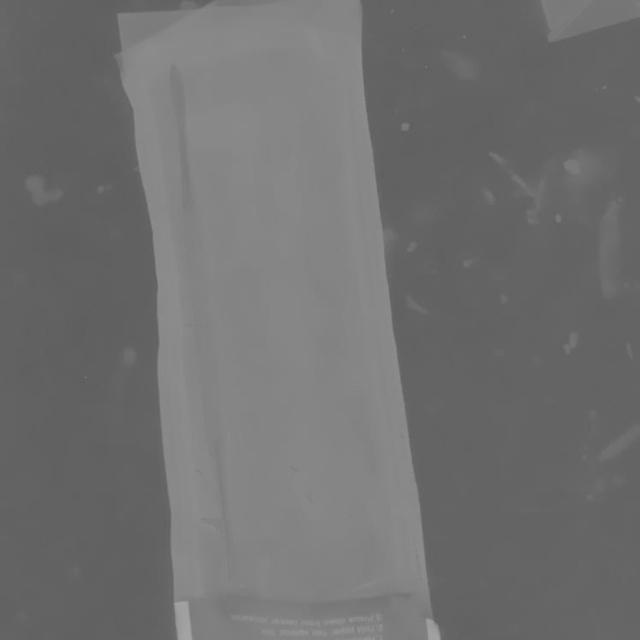elevador: (170, 63, 243, 551)
